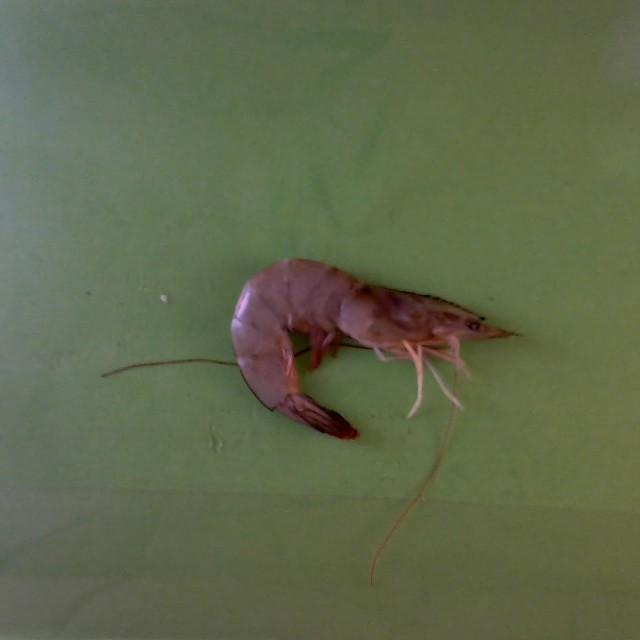shrimp: (231, 260, 516, 440)
